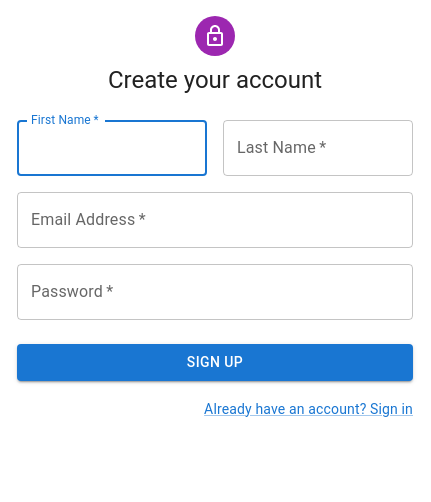
Scenario: SignUpPage › should show validation errors
Click the button "Sign Up": (215, 362) [17,344,413,380]
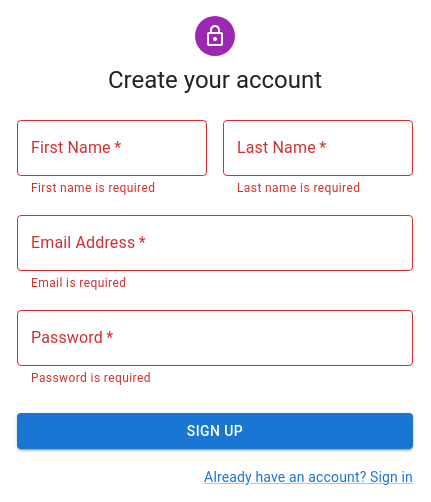
Check: the text "Email is required" is shown, box [31,276,126,290]
Check: the text "Password is required" is shown, box [31,371,151,385]
